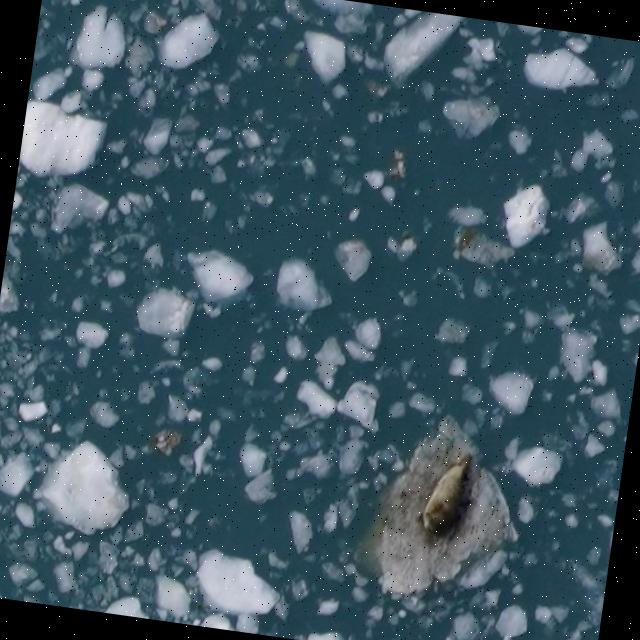seal: (420, 454, 474, 542)
